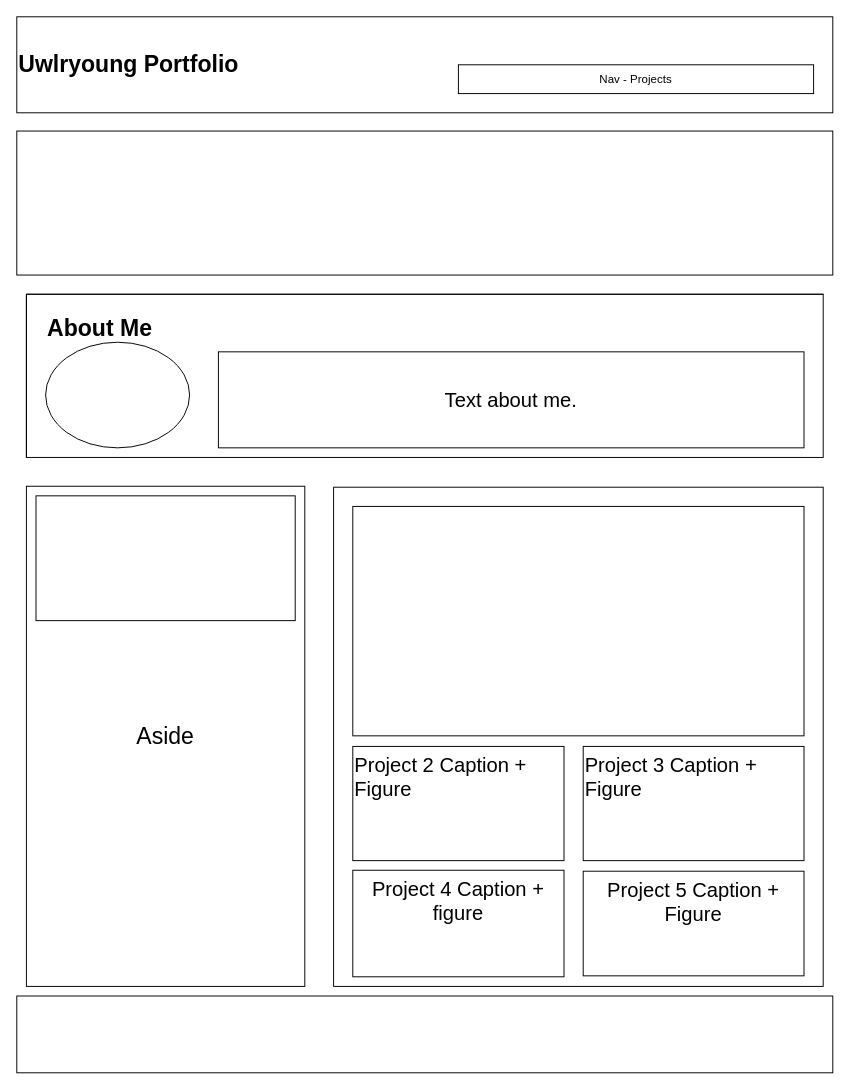
Some shapes in this 850 by 1090 pixel diagram are drawn without their labels. Here are the shapes that lost their labels. From the top down, the centre of each, then its label:
(424,202): Figure with an caption, a hero pic! (automatic slide show?)
(117,394): Profile Pic
(578,620): Project 1 Caption + Figure
(424,1034): Contact Me:
